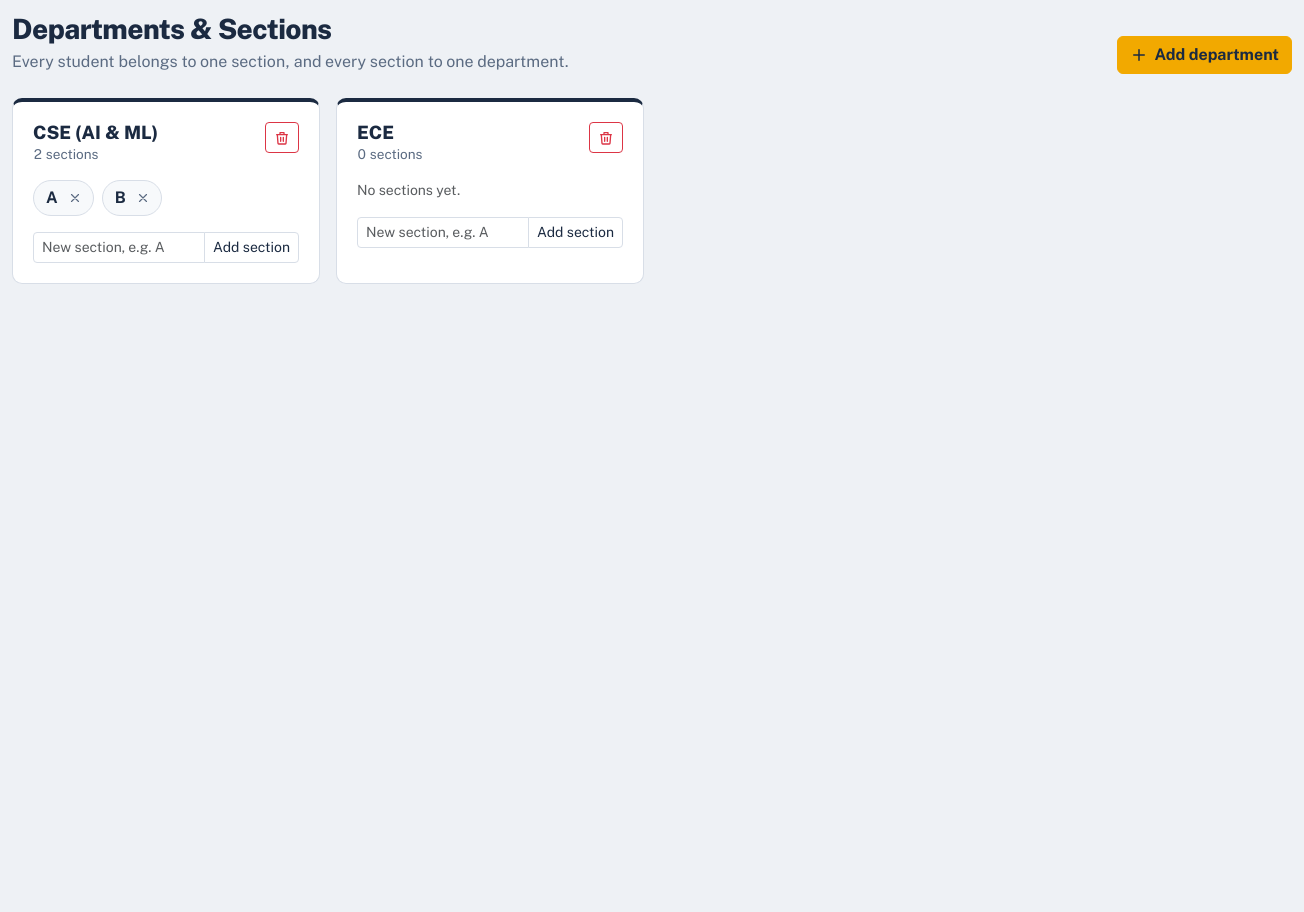
Test: Departments & Sections page (F-004) › adds a section to a department
Type "C" into the field named "New section name for ECE" at {"x": 443, "y": 233}, box x1=357 y1=217 x2=529 y2=248
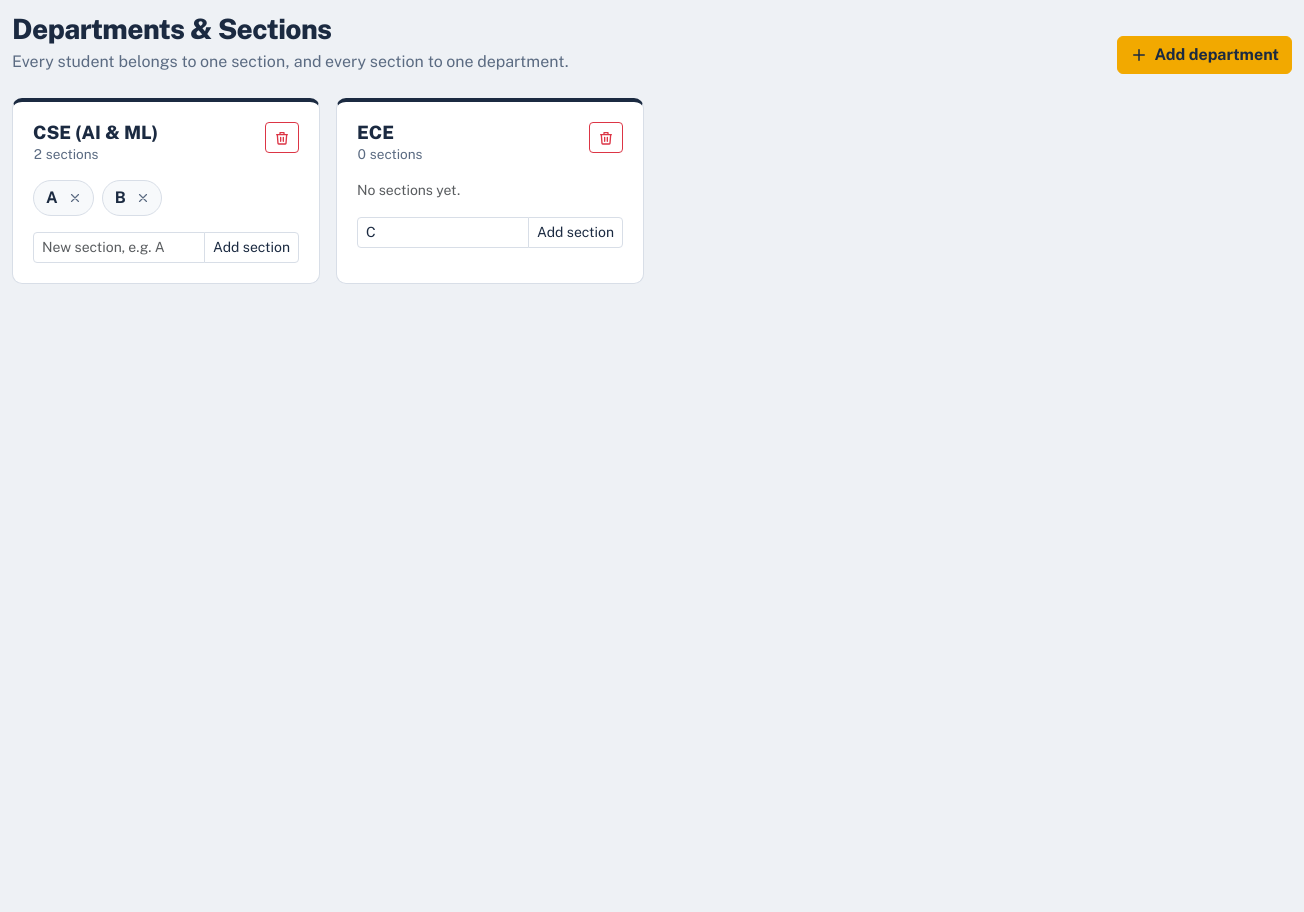
Click the button "Add section" below "No sections yet." at {"x": 575, "y": 233}, box x1=528 y1=217 x2=623 y2=248
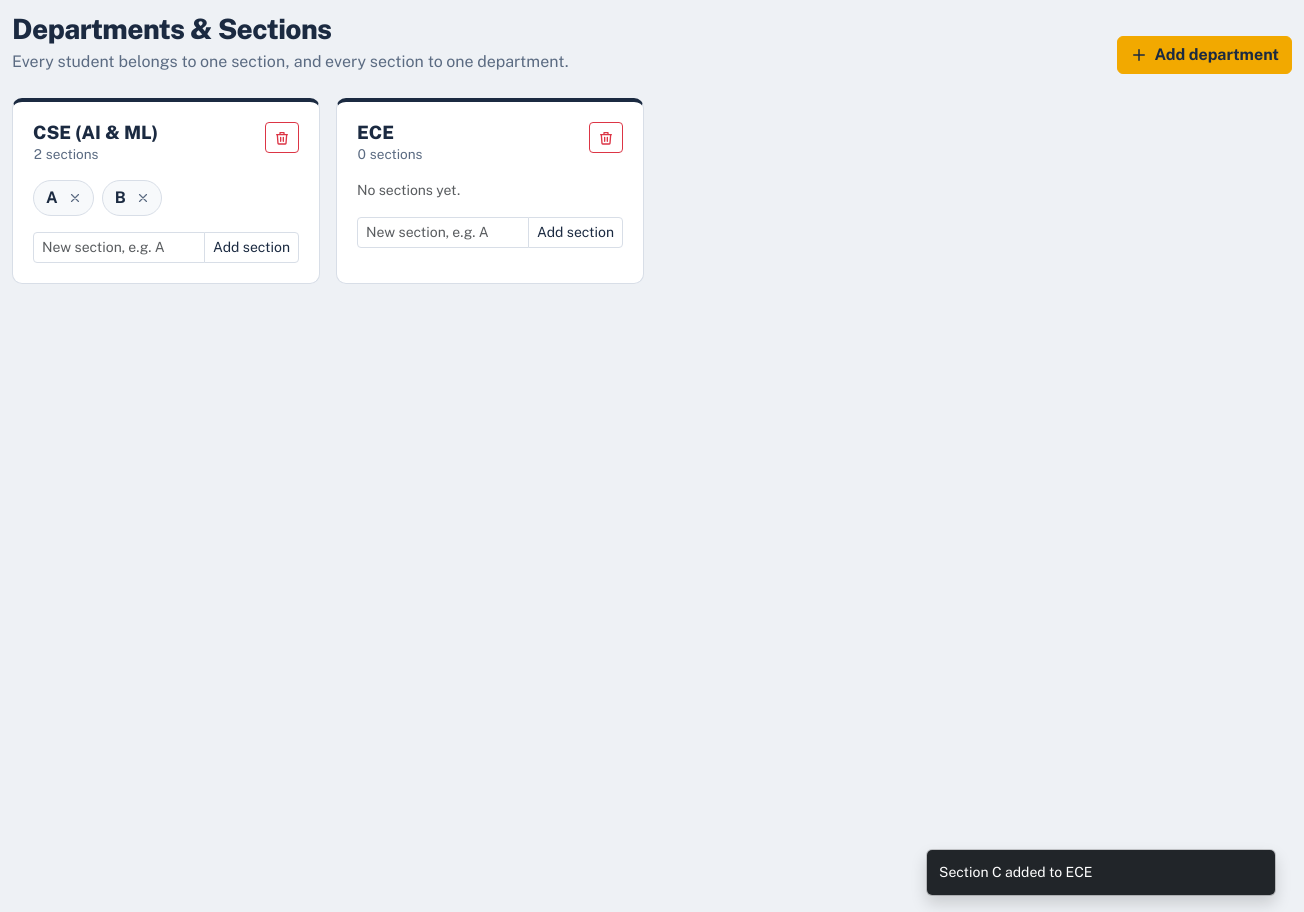
Check: the text "Section C added to ECE" is shown, box x1=939 y1=864 x2=1092 y2=880
